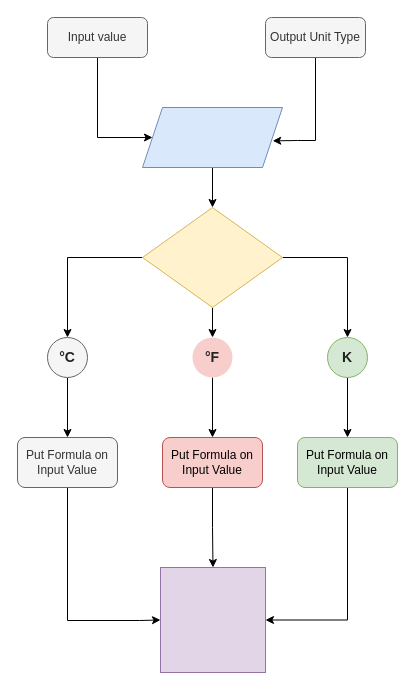
Image size: 415x690. Some labels were removed from this diagram. Each missing label, with the box of its shape:
Check Output Type: (142, 206, 282, 308)
ConvertFunction(): (142, 106, 282, 168)
Return Converted Value: (160, 566, 266, 672)
